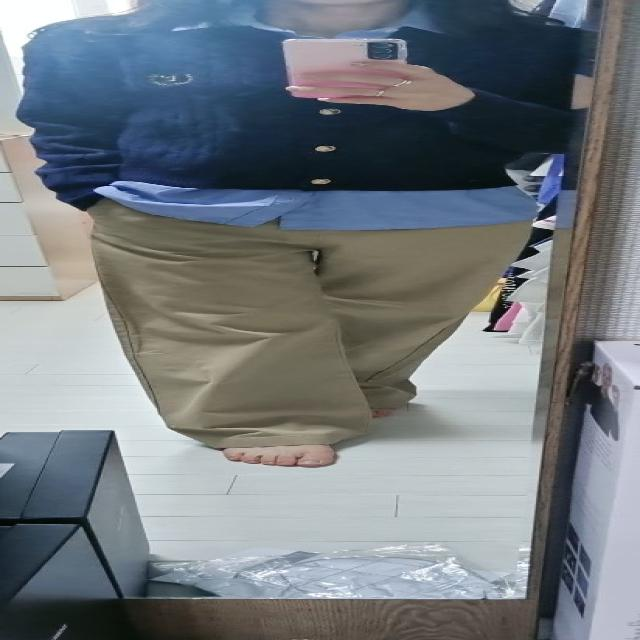cardigan: (11, 3, 586, 211)
cottonpants: (85, 183, 544, 450)
